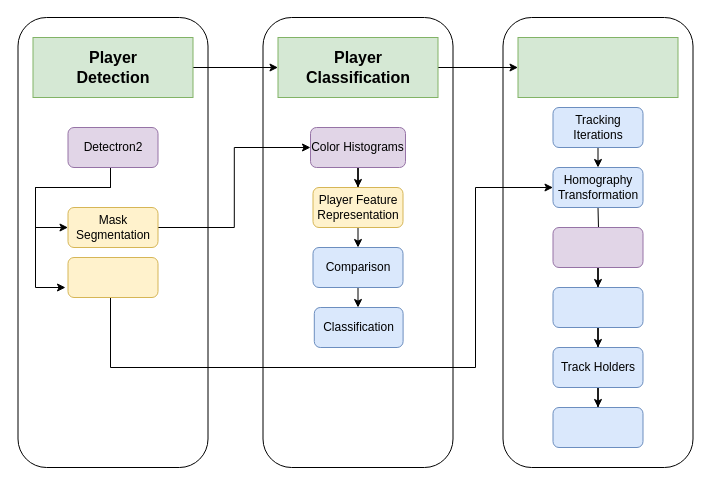
This 710x485 diagram has some shape labels left out. The centre of each missing label's shape, as x and y in pixels:
Bounding Box: the point at 112,277
Kalman Filters: the point at 597,247
Player Assignment: the point at 597,307
Player Tracking: the point at 597,67
Smoothing: the point at 597,427
